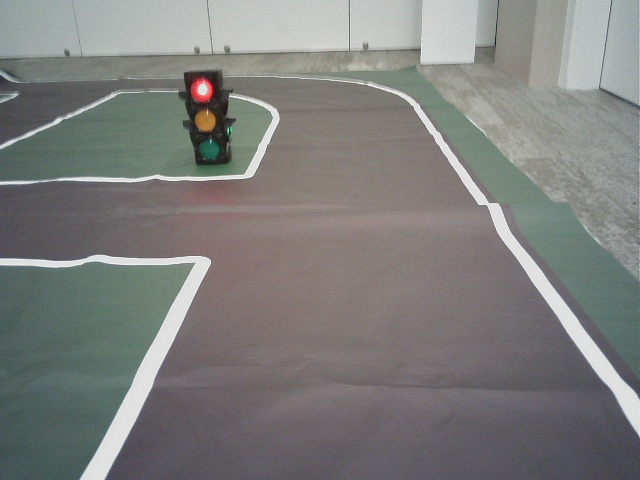red: (185, 73, 222, 158)
